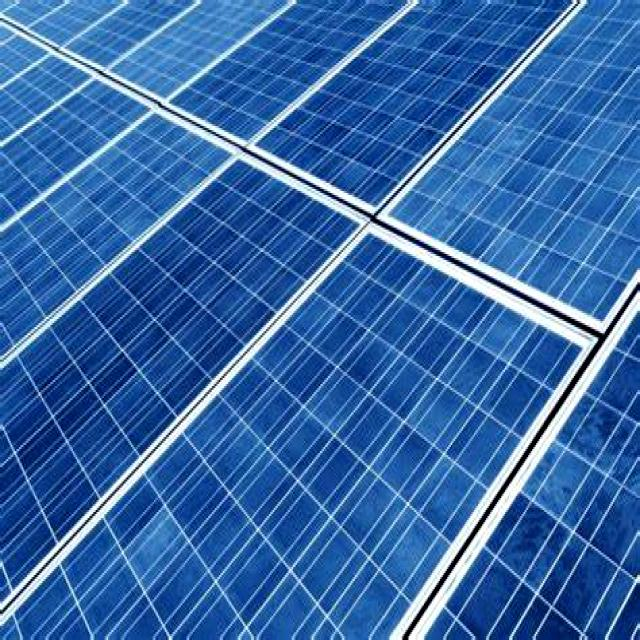crack: (0, 211, 599, 639), (0, 139, 371, 639), (240, 0, 626, 270), (0, 76, 255, 396), (147, 0, 442, 154)
